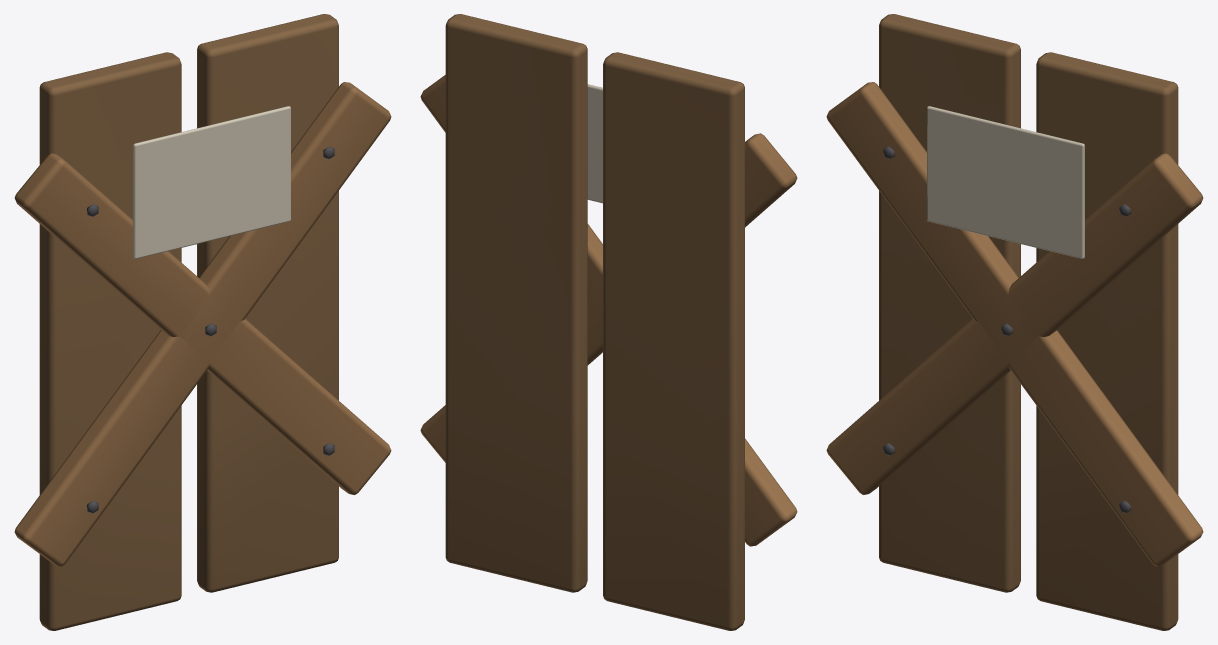
File: door_boards.glb
3 views of the same model, side by side, from view 1: azimuth 30°, elevation 25°; view 2: azimuth 150°, elevation 25°; view 3: azimuth 330°, elevation 25° (orthographic).
Visible parts, largest first — view 1: door_boards_main; view 2: door_boards_main; view 3: door_boards_main.
Part boxes in pixels (x1,y1,x2,y2): door_boards_main: [14, 14, 391, 630]; door_boards_main: [420, 14, 797, 630]; door_boards_main: [826, 14, 1203, 630].
Size of the model in its own units: 0.9359 by 1.32 by 0.135.
